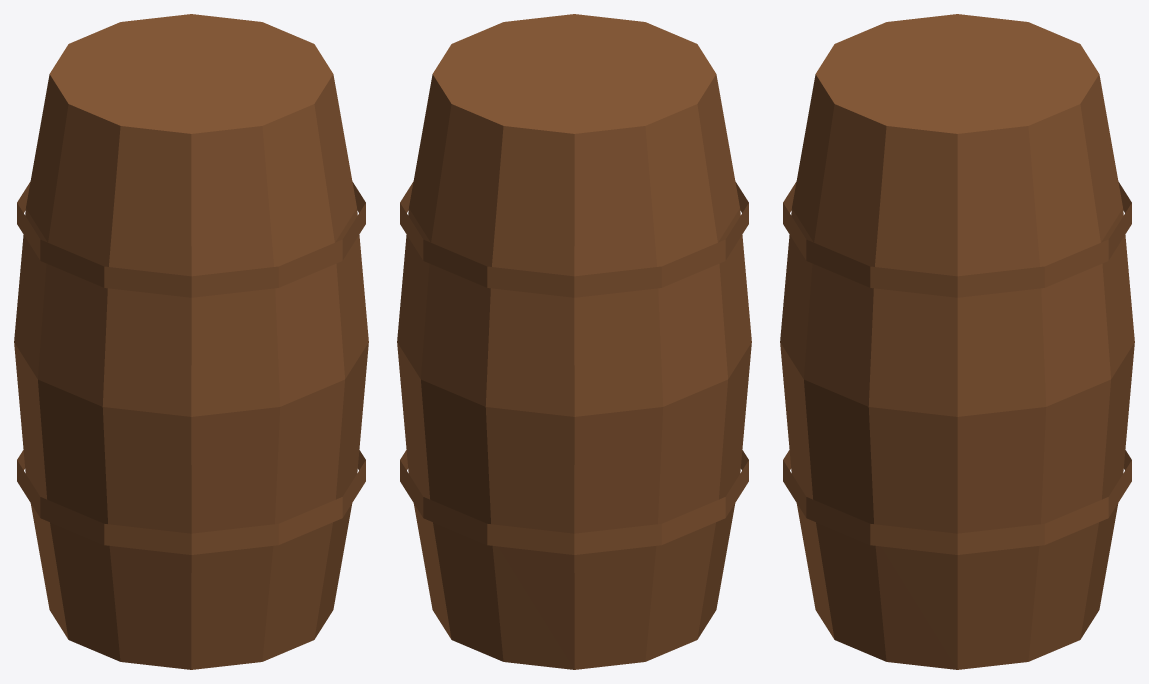
File: barrel.obj
The picture shows the model from 3 angles, left to right: view 1: azimuth 30°, elevation 25°; view 2: azimuth 150°, elevation 25°; view 3: azimuth 270°, elevation 25°; orthographic projection.
Size of the model in its own units: 0.6 by 1 by 0.6.
